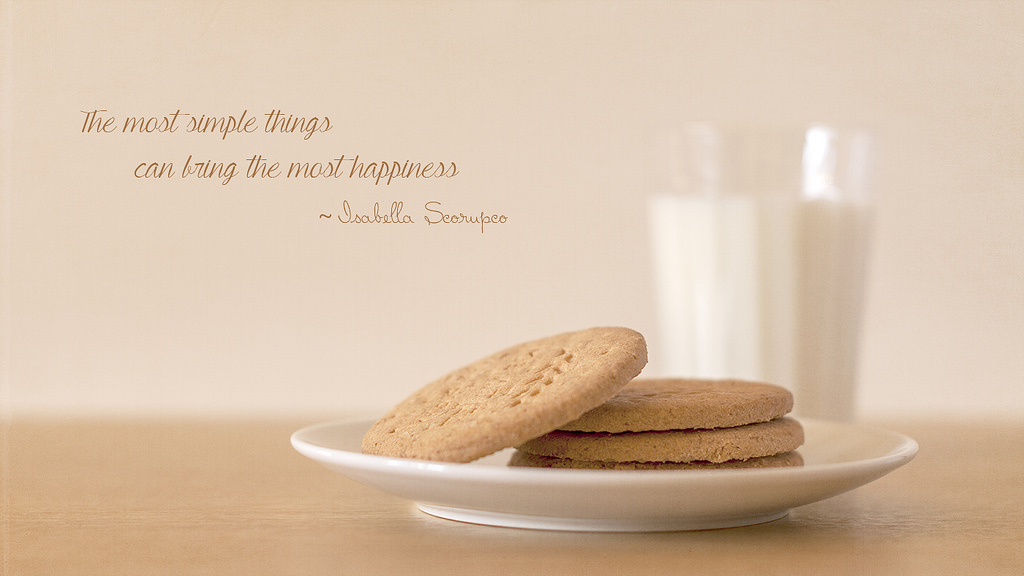glass of milk: (640, 127, 876, 442)
